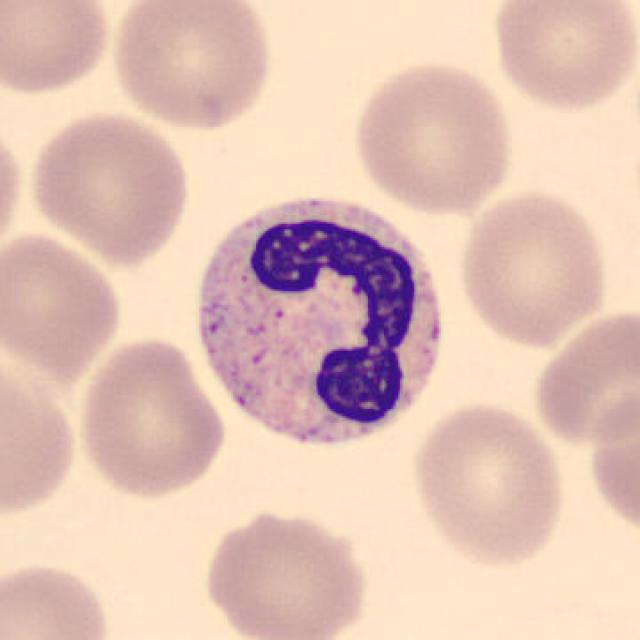Neutrophil: (183, 180, 457, 467)
RBC: (405, 397, 571, 571), (23, 106, 194, 266), (348, 58, 518, 217), (71, 333, 229, 503), (454, 185, 614, 351), (199, 504, 373, 640), (107, 0, 277, 132), (0, 228, 128, 379), (487, 0, 638, 115), (528, 305, 640, 451), (0, 351, 82, 525), (0, 0, 115, 100), (0, 555, 119, 640), (583, 388, 640, 540), (0, 112, 28, 264)
